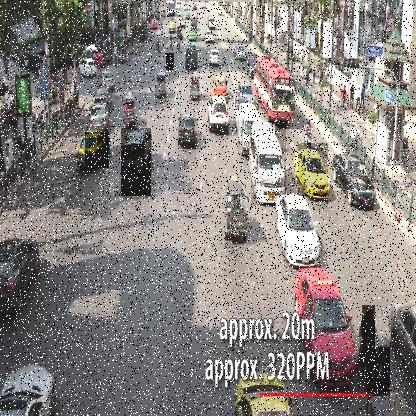bus: (252, 121, 288, 207), (253, 58, 299, 122)
car: (121, 128, 152, 197), (298, 143, 329, 197), (85, 132, 110, 169)
motocycle: (366, 347, 391, 397), (362, 305, 376, 368), (166, 53, 175, 71)
person: (350, 81, 356, 118), (341, 84, 347, 108)
